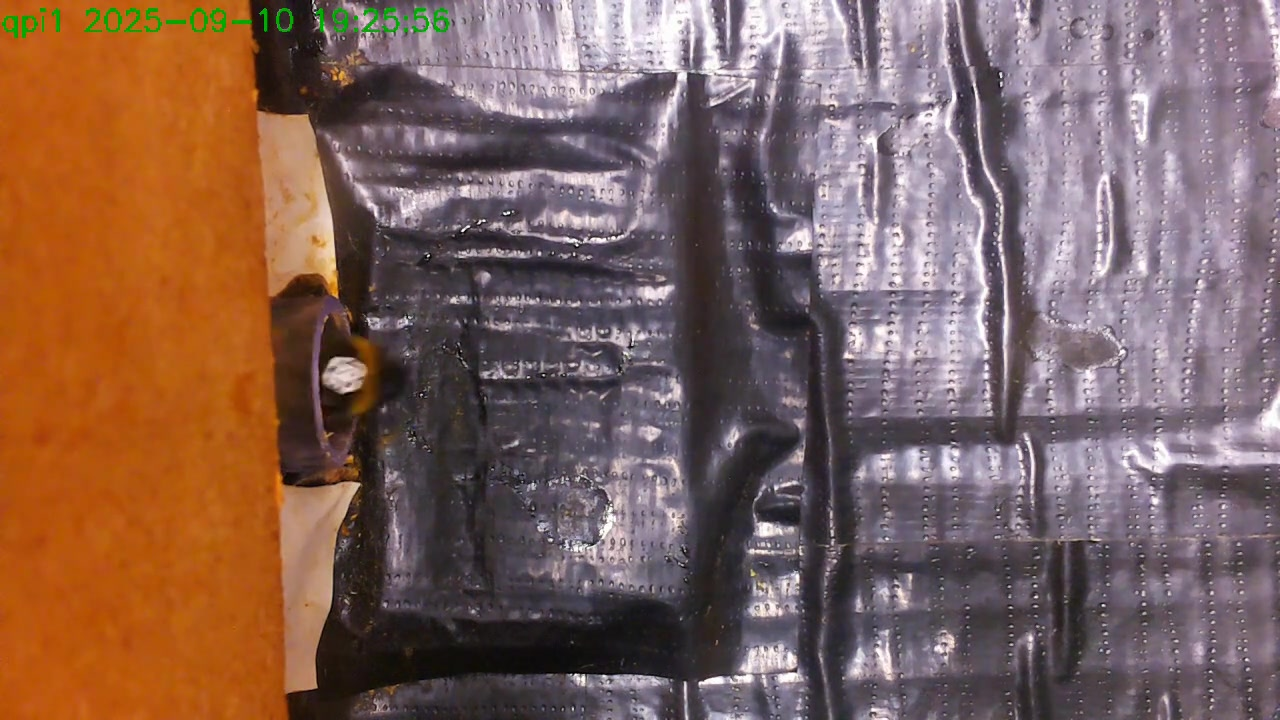bee: (292, 311, 424, 446)
